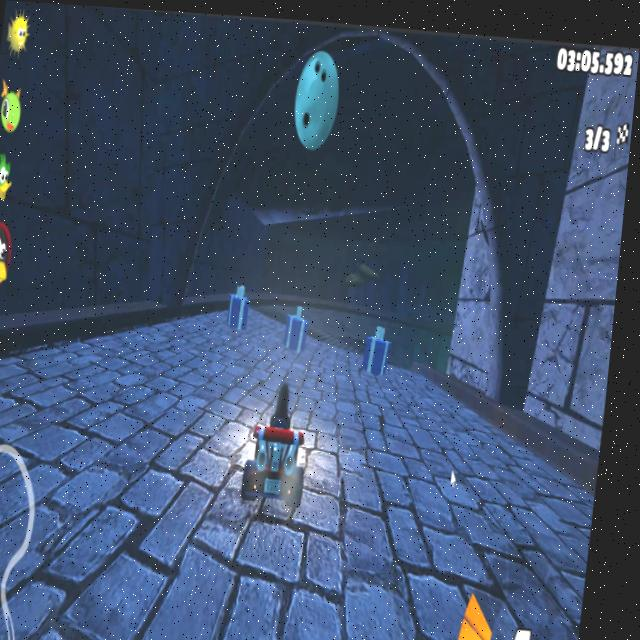bonus: (364, 315, 402, 377), (283, 294, 319, 355), (228, 273, 262, 333)
player_kart: (236, 373, 333, 533)
track: (118, 341, 237, 516)
